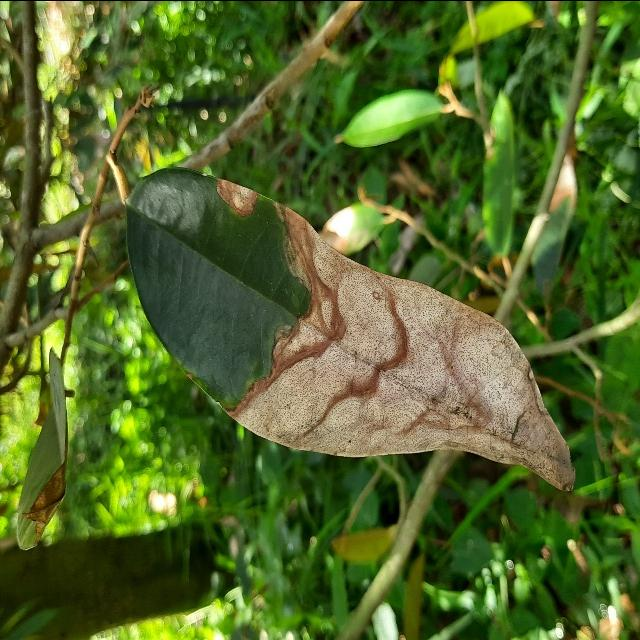Leaf Blight: (117, 161, 579, 502)
